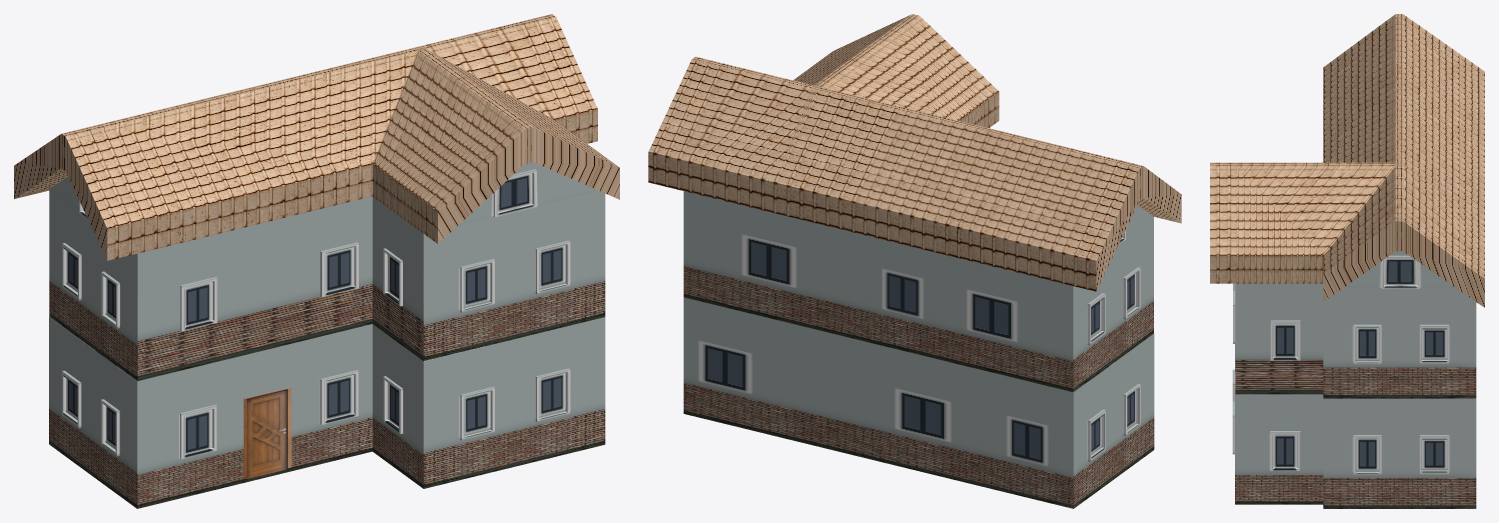
Rendered from BAT1_SETA_HOUSE8.fbx.
3 renders of one model, left to right at view 1: azimuth 30°, elevation 25°; view 2: azimuth 150°, elevation 25°; view 3: azimuth 270°, elevation 25°, orthographic. The views are drawn at different scales.
Visible parts, largest first — view 1: _08; view 2: _08; view 3: _08.
Part boxes in pixels (box(x1,y1,x2,y2)): _08: box(14, 14, 619, 508); _08: box(648, 14, 1181, 508); _08: box(1210, 14, 1484, 508).
Bounding box in the file's own units: 75.63 × 51.41 × 42.4.
1 material, 1 textured.
